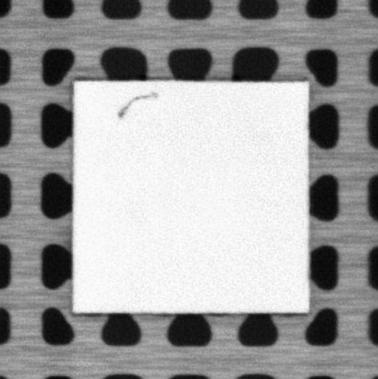DIE_INK: (117, 91, 160, 118)
